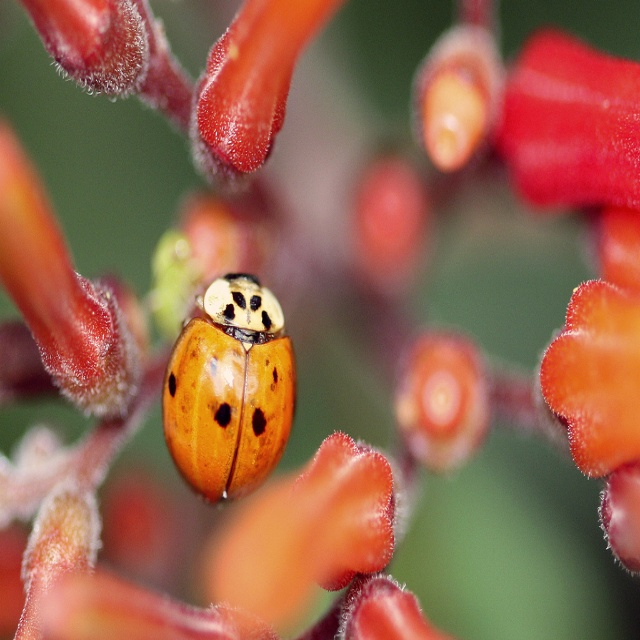Ladybug: (161, 272, 298, 511)
